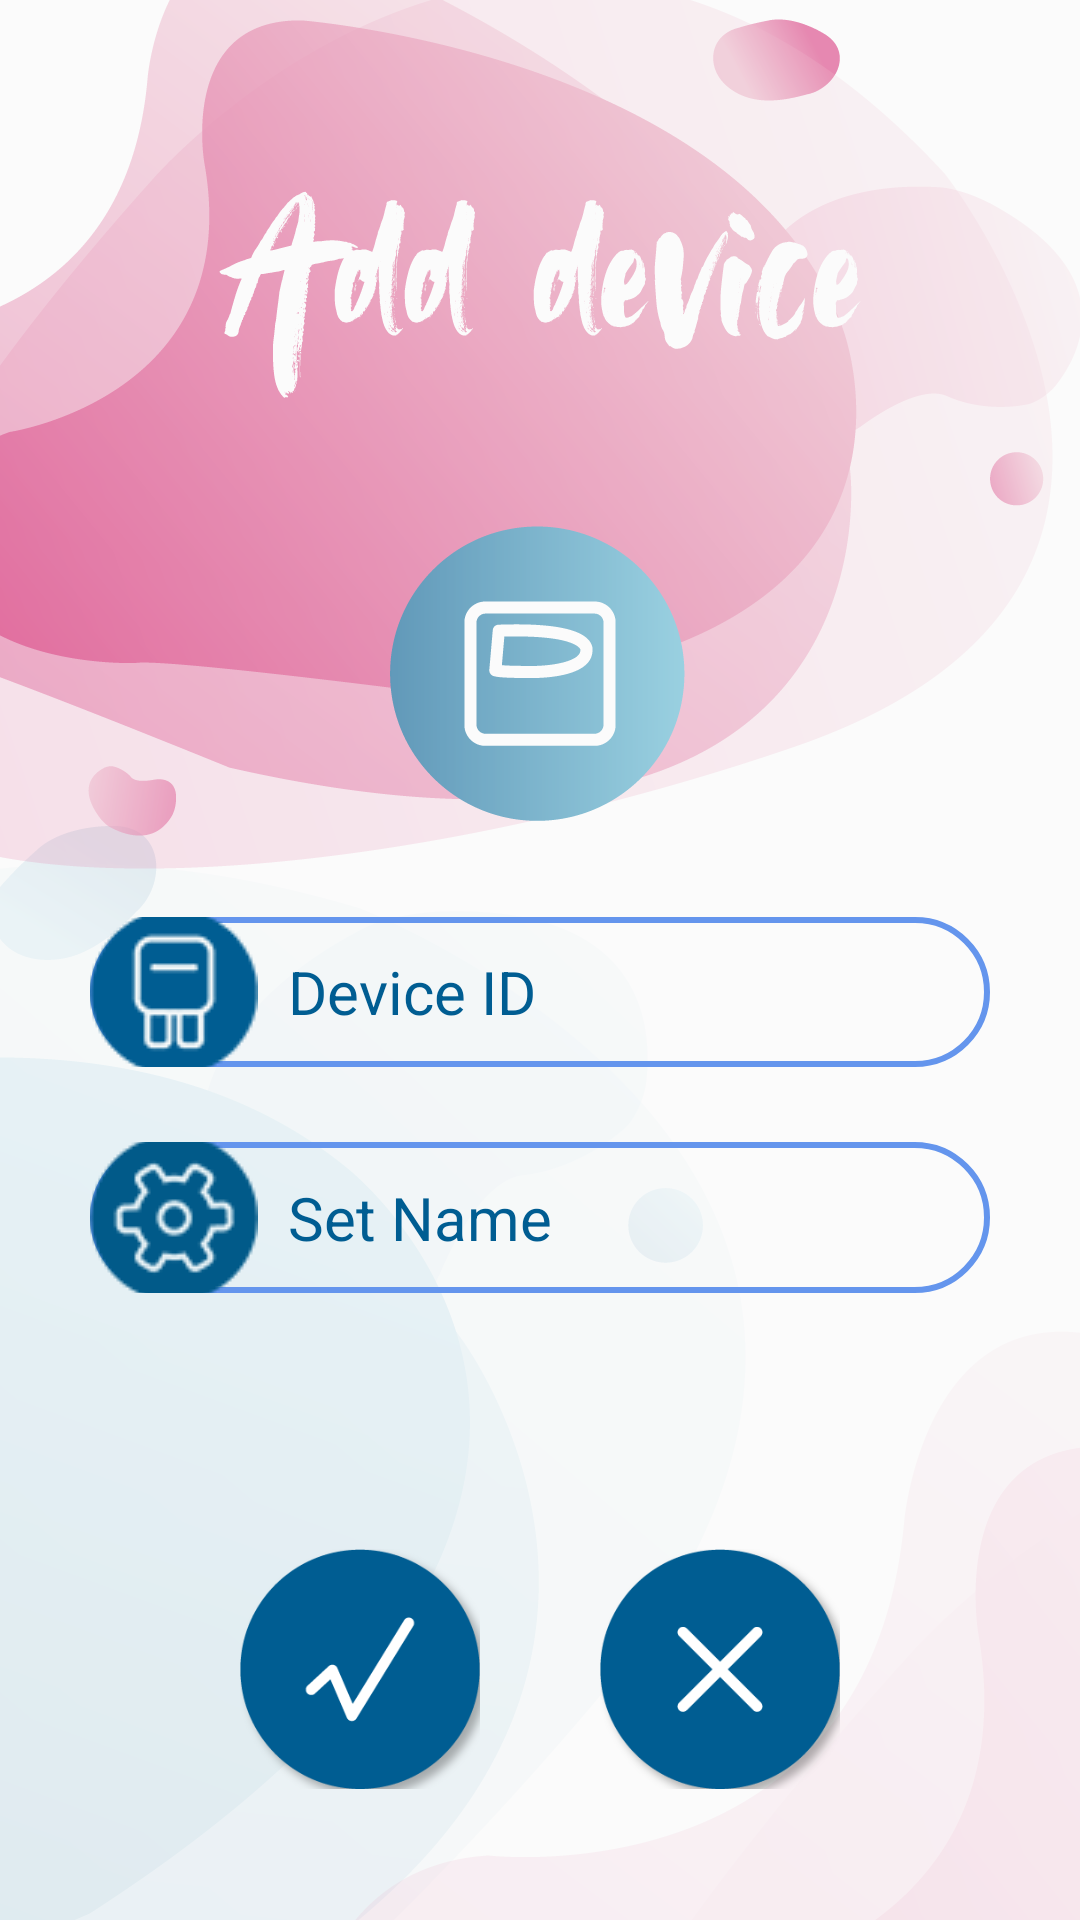

Named icons in this screenshot (1080 × 1920) and their centers, (x,y):
yes: (360,1669)
